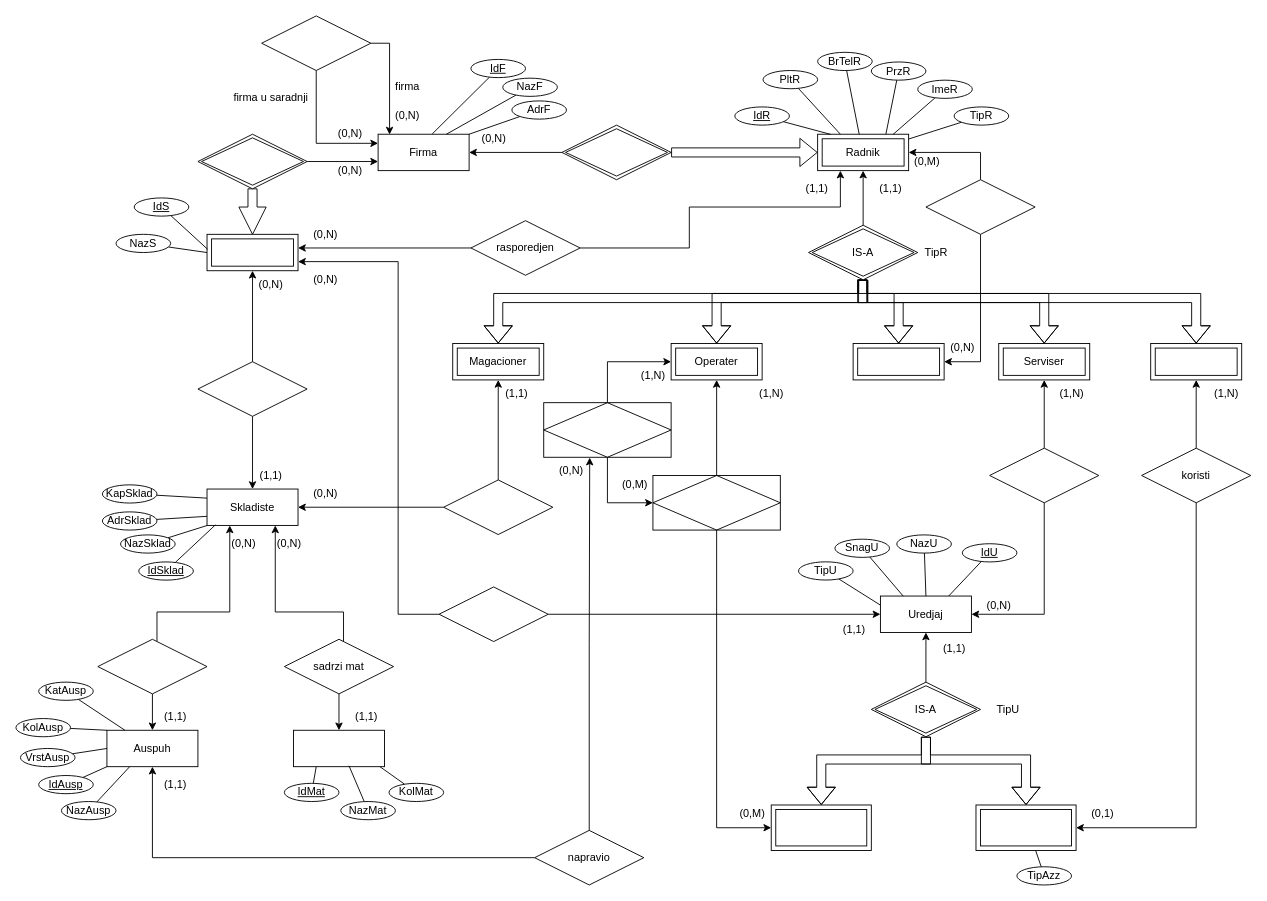
The diagram is 1267 pixels wide and 901 high, and some of its shapes have lost their labels. Here are the shapes that lost their labels. From the top down, the centre of each, then its label:
point 316,43: saradjuje
point 252,161: ima sekt
point 616,152: zaposlen
point 980,206: je nadredjen
point 252,252: Sektor
point 898,361: Menadzer
point 1196,361: Zavarivac
point 252,388: sklad priada
point 607,429: radi na
point 1044,475: servisira
point 498,507: radi u
point 716,502: je obucen
point 493,614: uredj pripada
point 152,666: sadrzi ausp
point 338,748: Repromaterijal
point 820,827: Masina za savijanje
point 1025,827: Aparat za zavarivanje
